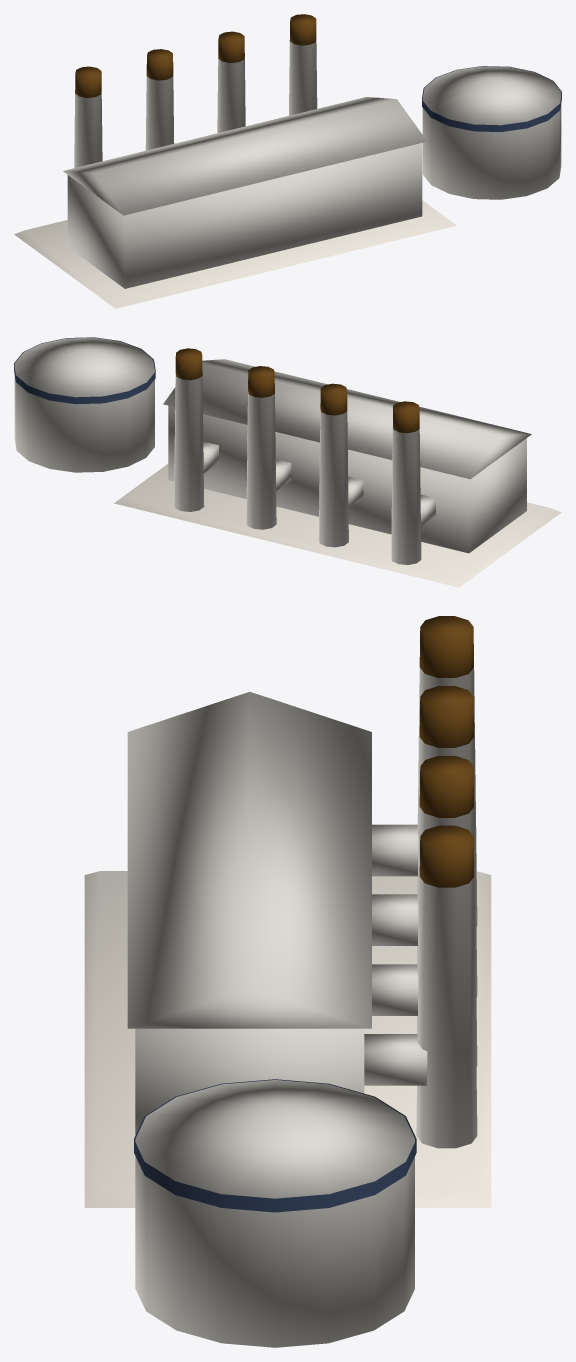
Rendered from termica-motores.glb.
3 views of the same model, one above another, from view 1: azimuth 30°, elevation 25°; view 2: azimuth 150°, elevation 25°; view 3: azimuth 270°, elevation 25° (orthographic). The views are drawn at different scales.
Parts seen in each view (by area): view 1: termica-motores; view 2: termica-motores; view 3: termica-motores.
Part boxes in pixels (box(x1,y1,x2,y2)): termica-motores: box(14, 14, 561, 308); termica-motores: box(14, 337, 561, 587); termica-motores: box(84, 616, 491, 1347).
Bounding box in the file's own units: 88.12 × 26.9 × 32.
